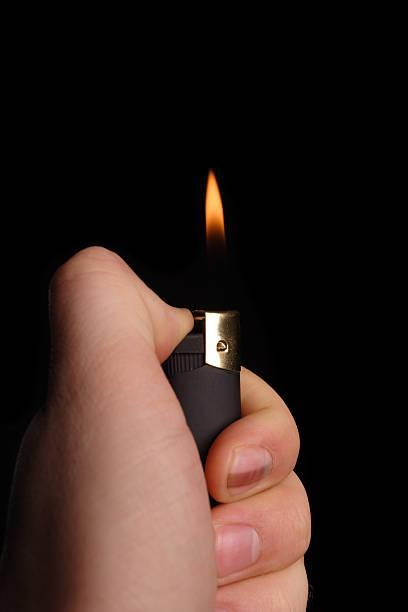Fire: (193, 167, 239, 298)
